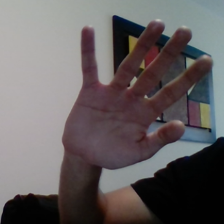left: (62, 16, 218, 174)
